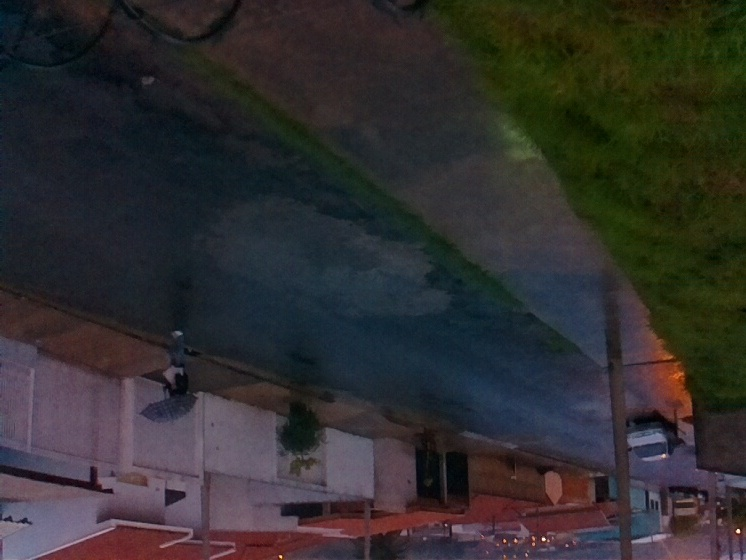person: (158, 324, 189, 401)
